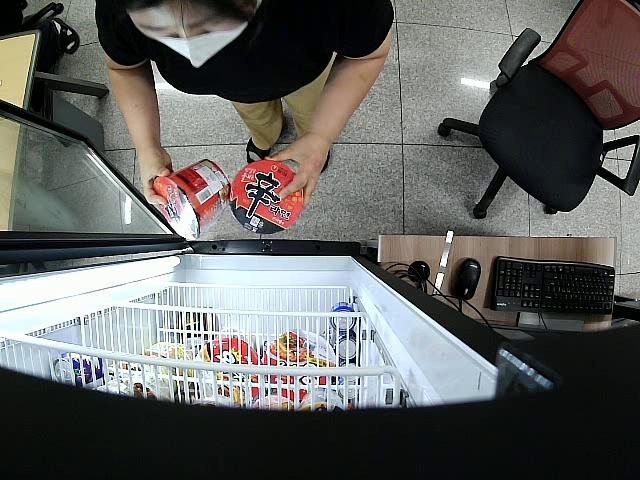00_hand: (264, 134, 330, 205), (137, 145, 173, 207)
01_shinRamen_L: (154, 159, 229, 239), (230, 159, 305, 235)
